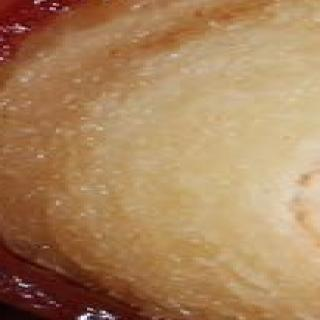bread: (3, 1, 320, 320)
